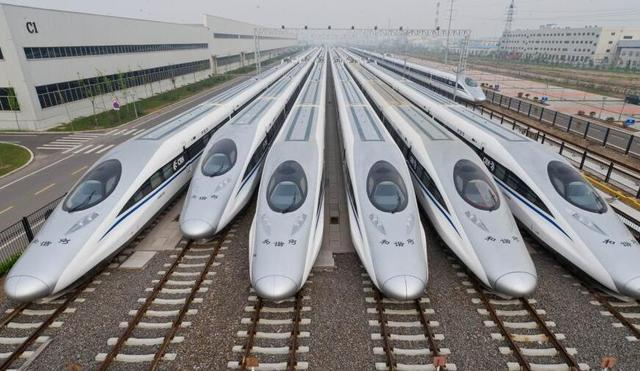hsrw: (11, 76, 178, 309), (478, 111, 636, 296), (401, 79, 533, 297), (336, 62, 430, 301), (256, 54, 332, 301), (184, 76, 253, 238), (349, 41, 489, 105)
